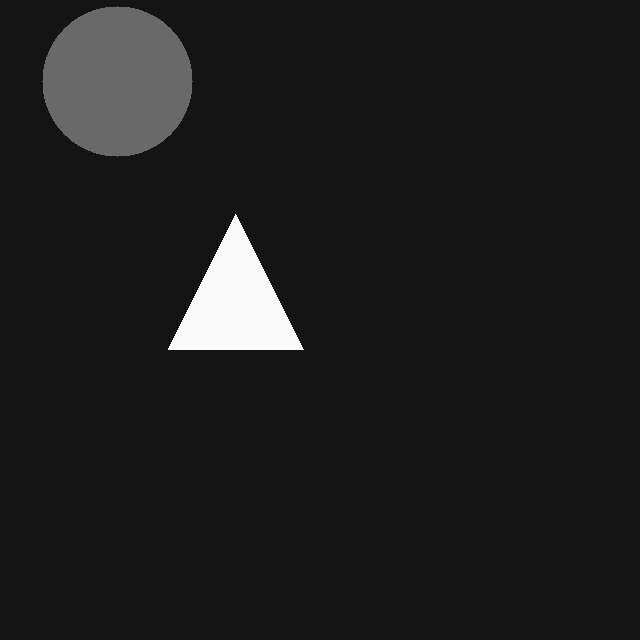circle: (42, 6, 192, 156)
triangle: (168, 214, 303, 349)
